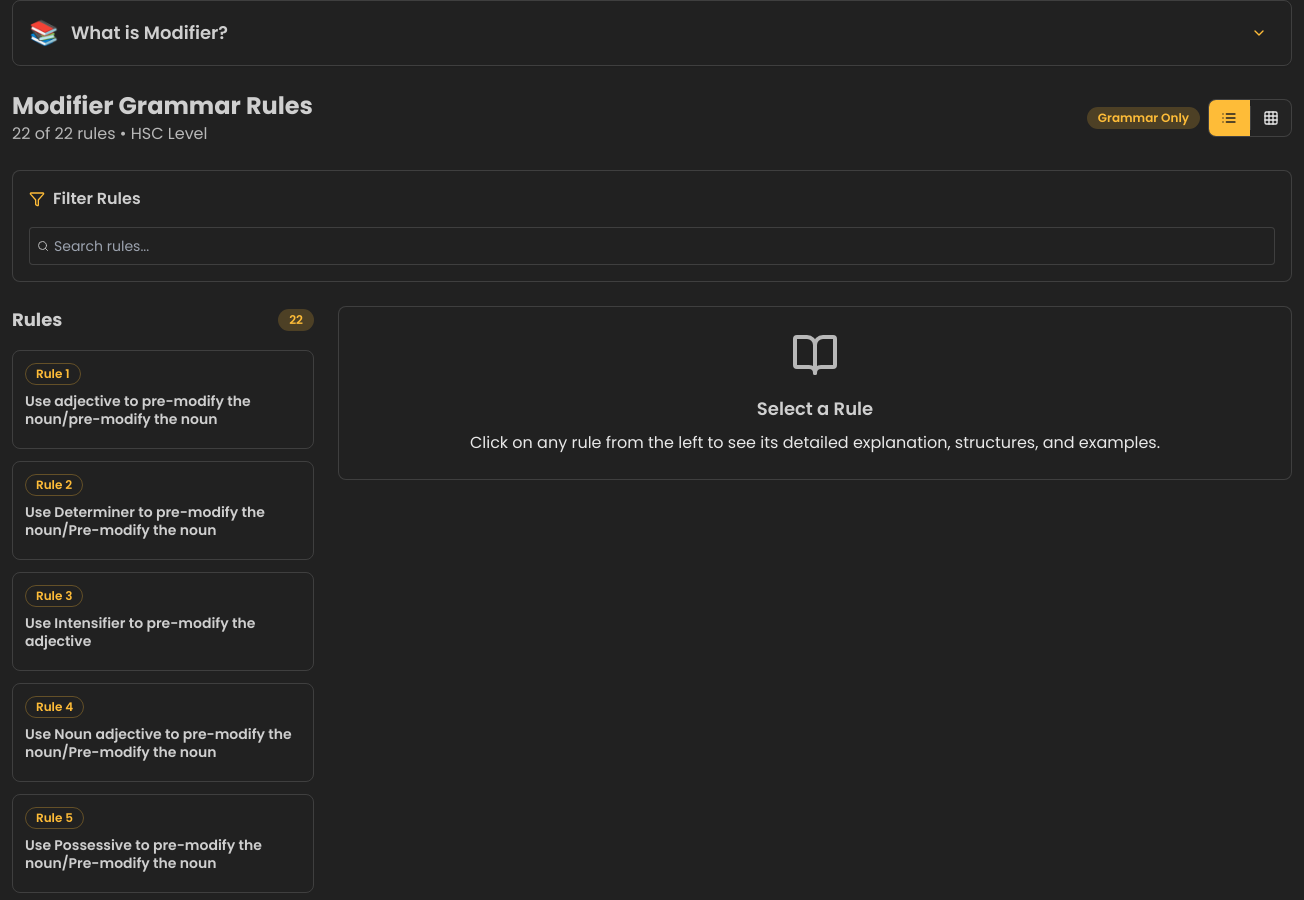
Test: CollapsibleTopicIntroduction Integration › integrates correctly with UniversalGrammarUI
expect the heading "What is Modifier?" is shown: met, box [71,19,228,47]
What coordinates should you click on to do the following:
click the element showing "📚 What is Modifier?"
I would click on:
 (149, 32)
Its box is [29,17,1275,49].
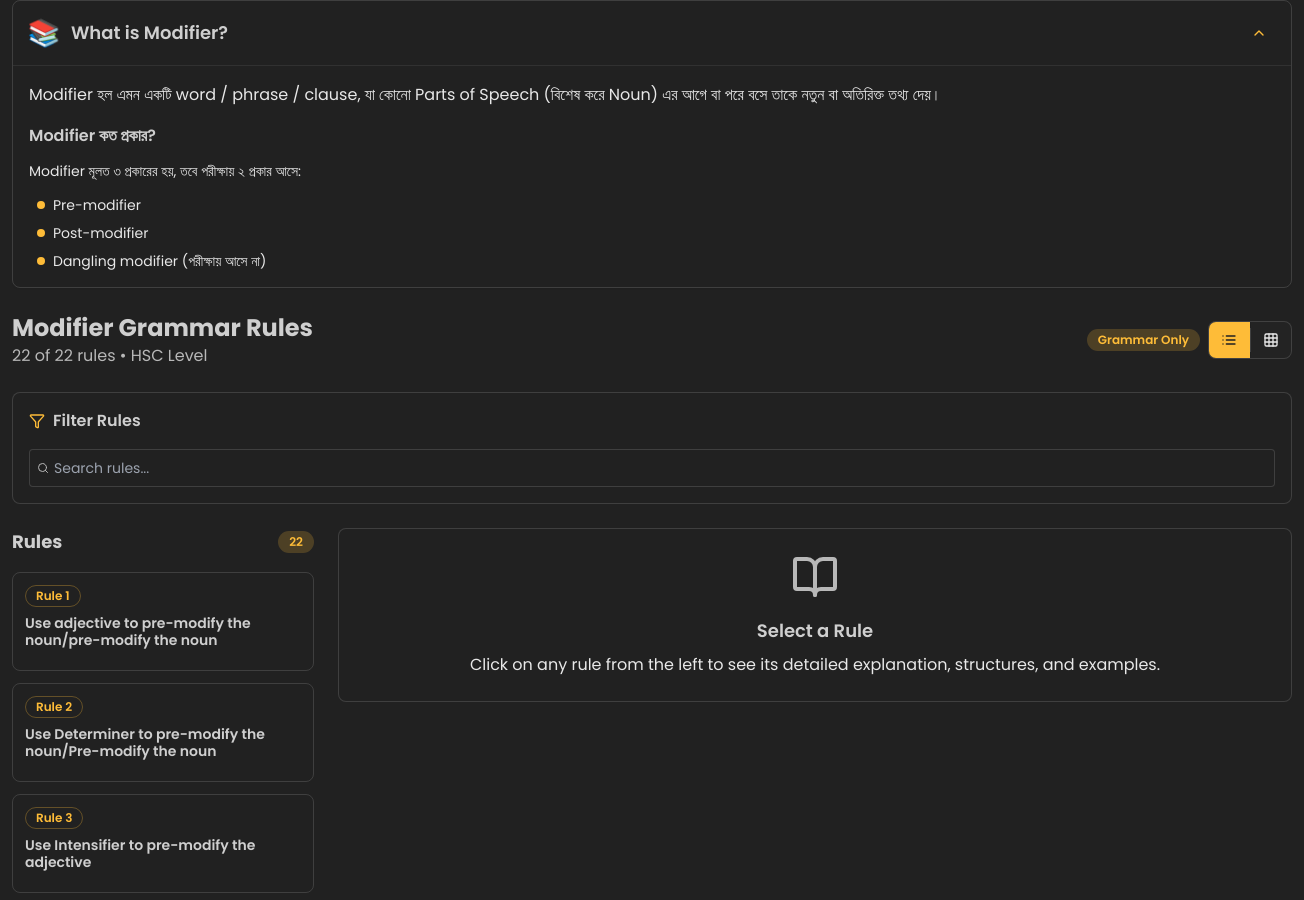
expect the text "Modifier হল এমন একটি word / phrase / clause, যা কোনো Parts of Speech (বিশেষ করে Noun) এর আগে বা পরে বসে তাকে নতুন বা অতি" is shown: met, box [29,83,942,106]
expect the text "Pre-modifier" is shown: met, box [53,195,141,215]
expect the text "Post-modifier" is shown: met, box [53,223,148,243]
